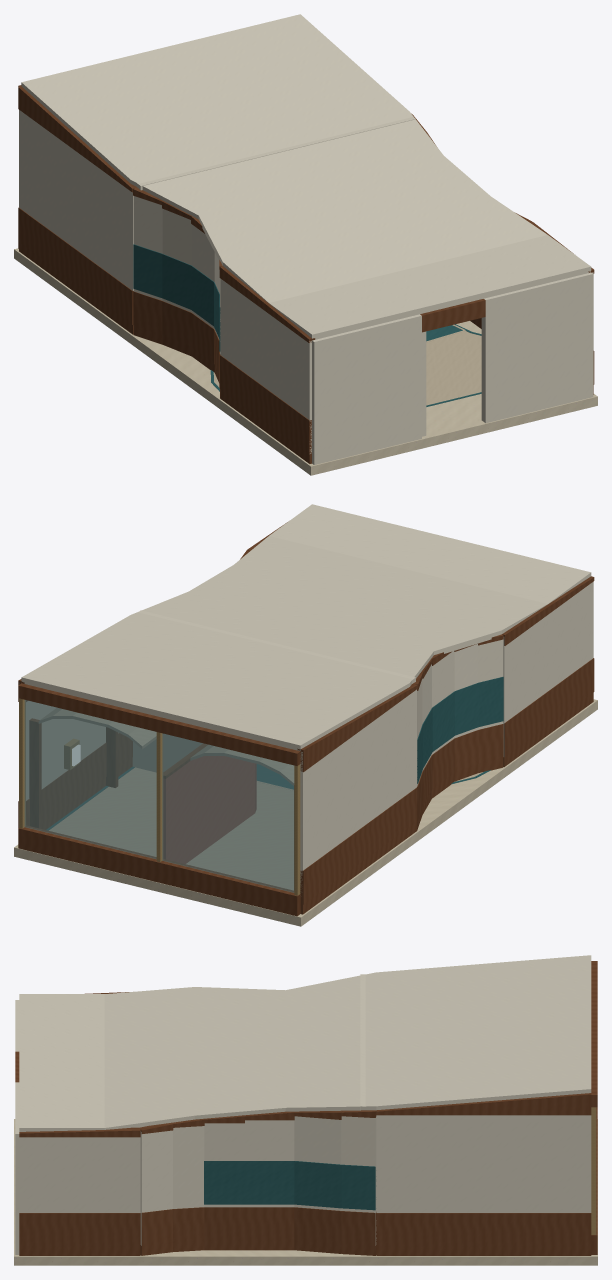
The model's file is shell.glb.
3 renders of one model, top to bottom at view 1: azimuth 30°, elevation 25°; view 2: azimuth 150°, elevation 25°; view 3: azimuth 270°, elevation 25°, orthographic.
Parts seen in each view (by area): view 1: SUI_Runtime_ivory_enamel, SUI_Runtime_warm_walnut, SUI_Runtime_warm_stone, SUI_Runtime_teal_weave, SUI_Runtime_oatmeal_weave; view 2: SUI_Runtime_ivory_enamel, SUI_Runtime_warm_walnut, SUI_Runtime_SuiteHospitalityGlass, SUI_Runtime_oatmeal_weave, SUI_Runtime_clay_weave, SUI_Runtime_warm_stone, SUI_Runtime_teal_weave, SUI_Runtime_champagne_metal; view 3: SUI_Runtime_ivory_enamel, SUI_Runtime_warm_walnut, SUI_Runtime_teal_weave, SUI_Runtime_warm_stone, SUI_Runtime_champagne_metal.
Boxes of the visible parts, x1=… form: SUI_Runtime_ivory_enamel: x1=19, y1=14, x2=593, y2=464; SUI_Runtime_warm_walnut: x1=18, y1=85, x2=594, y2=463; SUI_Runtime_warm_stone: x1=14, y1=248, x2=597, y2=475; SUI_Runtime_teal_weave: x1=133, y1=244, x2=481, y2=406; SUI_Runtime_oatmeal_weave: x1=213, y1=324, x2=481, y2=405; SUI_Runtime_ivory_enamel: x1=19, y1=504, x2=593, y2=885; SUI_Runtime_warm_walnut: x1=18, y1=522, x2=594, y2=916; SUI_Runtime_SuiteHospitalityGlass: x1=24, y1=700, x2=294, y2=892; SUI_Runtime_oatmeal_weave: x1=39, y1=708, x2=482, y2=890; SUI_Runtime_clay_weave: x1=163, y1=756, x2=256, y2=863; SUI_Runtime_warm_stone: x1=14, y1=699, x2=597, y2=926; SUI_Runtime_teal_weave: x1=46, y1=677, x2=503, y2=830; SUI_Runtime_champagne_metal: x1=19, y1=698, x2=300, y2=895; SUI_Runtime_ivory_enamel: x1=15, y1=955, x2=591, y2=1254; SUI_Runtime_warm_walnut: x1=15, y1=961, x2=597, y2=1255; SUI_Runtime_teal_weave: x1=204, y1=1161, x2=375, y2=1210; SUI_Runtime_warm_stone: x1=14, y1=1119, x2=597, y2=1265; SUI_Runtime_champagne_metal: x1=591, y1=1107, x2=596, y2=1234.
Size of the model in its own units: 7.2 by 4.26 by 12.9.
Materials: 9 (7 with a texture image).
